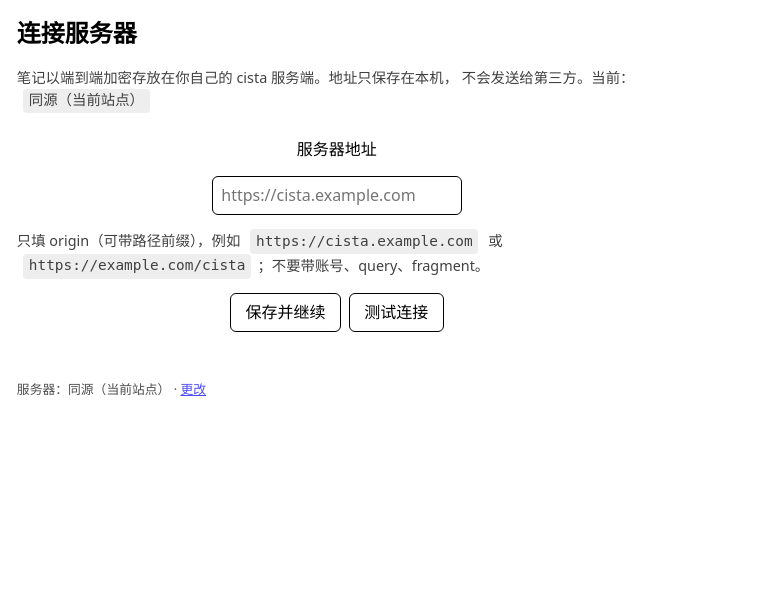
Test: 原生端首次启动 › 未配置服务器时强制先填地址，保存后进入配对页
Expected: the heading "连接服务器" is shown, left=17, top=16, right=137, bottom=49
Type "https://cista.example.com/" into the field labelled "服务器地址" at (337, 195), box left=212, top=176, right=462, bottom=215
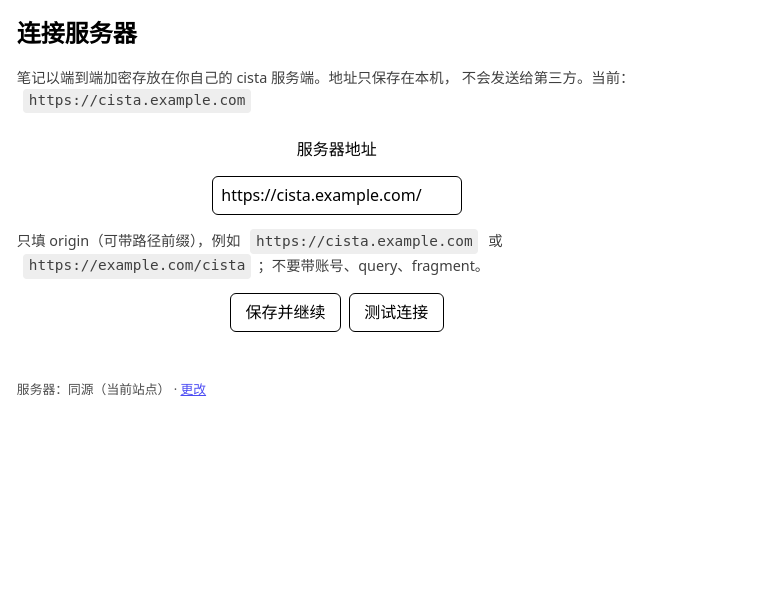
Click the button "保存并继续" at (285, 312), box left=230, top=293, right=341, bottom=332
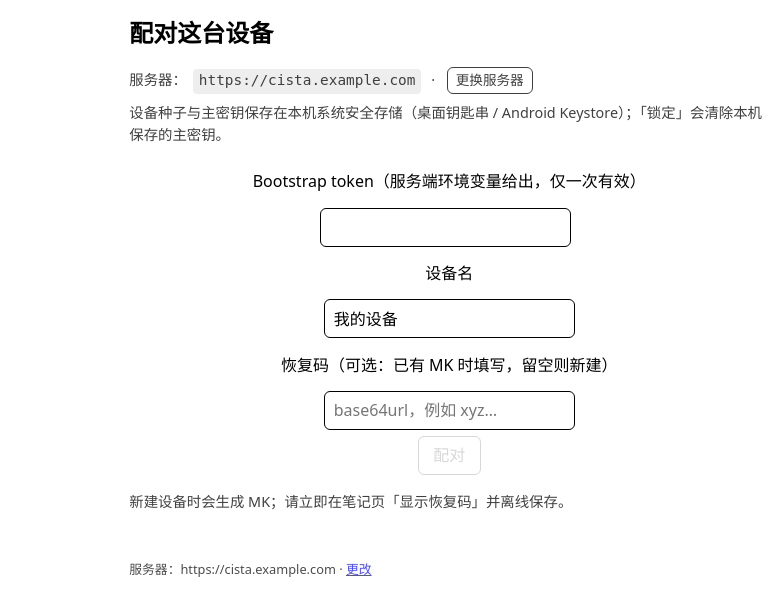
Expected: the text "https://cista.example.com" is shown, left=193, top=69, right=421, bottom=94
Result: the heading "配对这台设备" is shown at left=129, top=16, right=273, bottom=49
